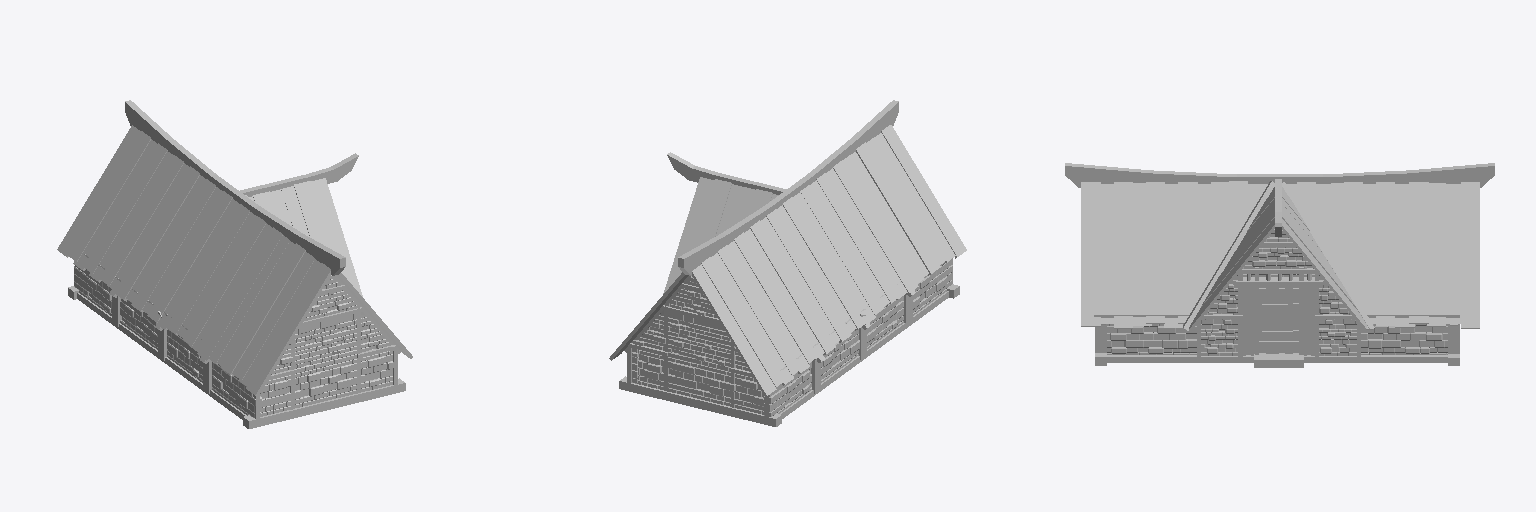
File: lowpoly_viking_house_003.obj
3 renders of one model, left to right at view 1: azimuth 30°, elevation 25°; view 2: azimuth 150°, elevation 25°; view 3: azimuth 270°, elevation 25°, orthographic.
Visible parts, largest first — view 1: Wall.174, Cube.2191, Cube.2181, Cube.2165, Cube.2186, Cube.2178, Cube.2158, Cube.2174, Cube.2190, Cube.2169, Cube.2162, Cube.2235 (+21 smaller); view 2: Wall.174, Cube.2191, Cube.2157, Cube.2186, Cube.2165, Cube.2181, Cube.2190, Cube.2178, Cube.2174, Cube.2158, Cube.2169, Cube.2235 (+21 smaller); view 3: Wall.174, Cube.2191, Cube.2180, Cube.2205, Cube.2163, Cube.2156, Cube.2184, Cube.2168, Cube.2143, Cube.2233, Cube.2229, Cube.2160 (+20 smaller).
Part boxes in pixels (bbox=[...]): Wall.174: bbox=[74, 254, 393, 417]; Cube.2191: bbox=[125, 100, 345, 275]; Cube.2181: bbox=[246, 263, 330, 396]; Cube.2165: bbox=[114, 166, 199, 301]; Cube.2186: bbox=[221, 243, 305, 375]; Cube.2178: bbox=[147, 191, 232, 322]; Cube.2158: bbox=[67, 131, 150, 261]; Cube.2174: bbox=[131, 179, 215, 312]; Cube.2190: bbox=[197, 227, 282, 361]; Cube.2169: bbox=[100, 155, 183, 285]; Cube.2162: bbox=[83, 143, 167, 273]; Cube.2235: bbox=[182, 216, 265, 345]; Wall.174: bbox=[632, 261, 952, 416]; Cube.2191: bbox=[678, 100, 898, 275]; Cube.2157: bbox=[692, 264, 776, 396]; Cube.2186: bbox=[856, 142, 940, 275]; Cube.2165: bbox=[750, 220, 835, 354]; Cube.2181: bbox=[881, 125, 966, 258]; Cube.2190: bbox=[833, 160, 918, 294]; Cube.2178: bbox=[783, 197, 866, 330]; Cube.2174: bbox=[766, 209, 851, 342]; Cube.2158: bbox=[701, 257, 785, 386]; Cube.2169: bbox=[734, 232, 818, 363]; Cube.2235: bbox=[816, 173, 900, 303]; Wall.174: bbox=[1107, 229, 1447, 355]; Cube.2191: bbox=[1065, 163, 1494, 187]; Cube.2180: bbox=[1081, 182, 1100, 326]; Cube.2205: bbox=[1107, 353, 1447, 367]; Cube.2163: bbox=[1409, 182, 1428, 323]; Cube.2156: bbox=[1461, 182, 1479, 328]; Cube.2184: bbox=[1114, 182, 1132, 328]; Cube.2168: bbox=[1376, 182, 1394, 325]; Cube.2143: bbox=[1259, 286, 1298, 353]; Cube.2233: bbox=[1146, 182, 1164, 323]; Cube.2229: bbox=[1178, 182, 1197, 323]; Cube.2160: bbox=[1427, 183, 1445, 326].
Size of the model in its own units: 3.49 by 2.71 by 6.48.